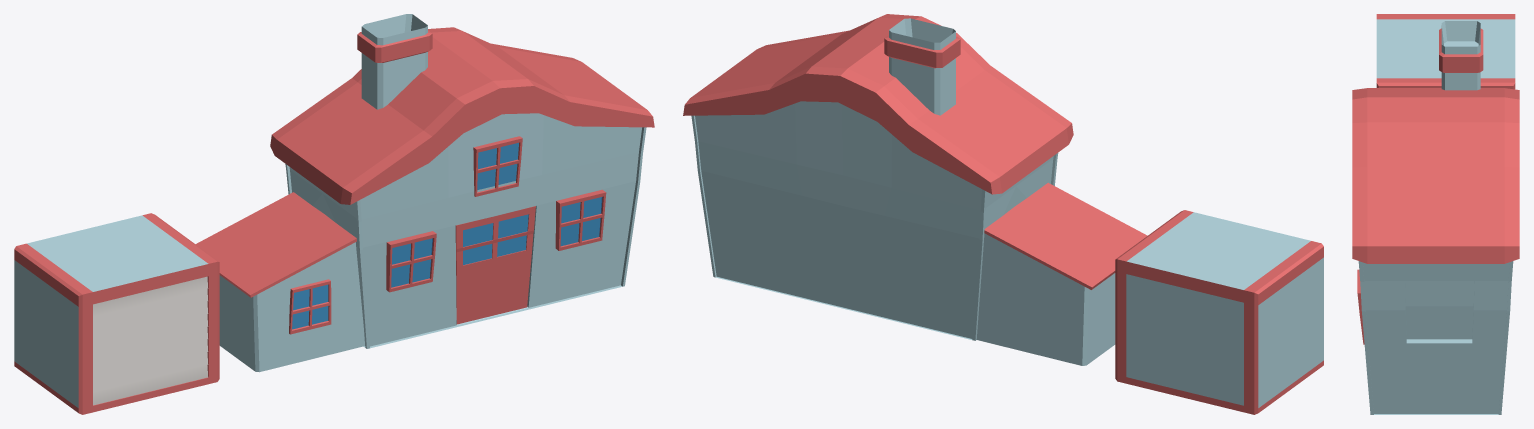
The model's file is timmyHouse (1).fbx.
3 views of the same model, side by side, from view 1: azimuth 30°, elevation 25°; view 2: azimuth 150°, elevation 25°; view 3: azimuth 270°, elevation 25° (orthographic). The views are drawn at different scales.
Visible parts, largest first — view 1: polySurface397; view 2: polySurface397; view 3: polySurface397.
Boxes of the visible parts, x1,y1,x2,y2 form: polySurface397: [14, 14, 654, 414]; polySurface397: [683, 14, 1323, 414]; polySurface397: [1352, 14, 1519, 414].
Bounding box in the file's own units: 5 × 2.32 × 1.23.
